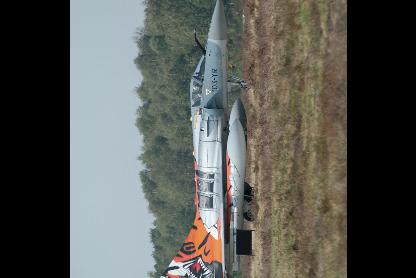Mirage2000: (137, 0, 253, 277)
